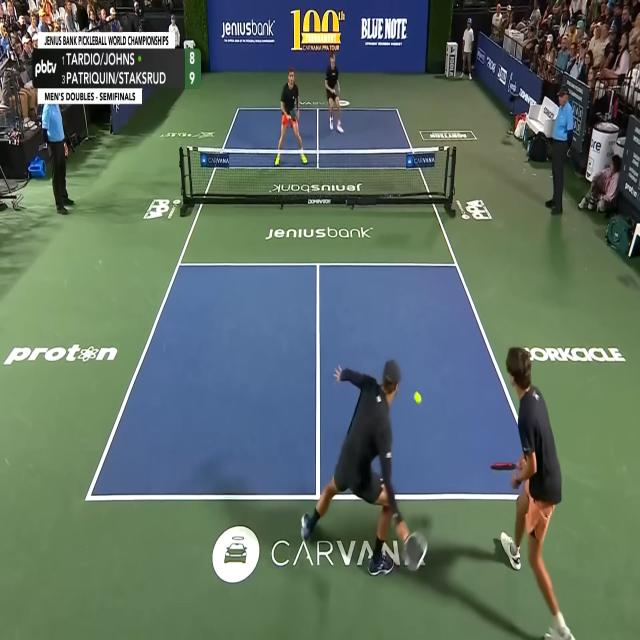ball: (414, 391, 422, 405)
